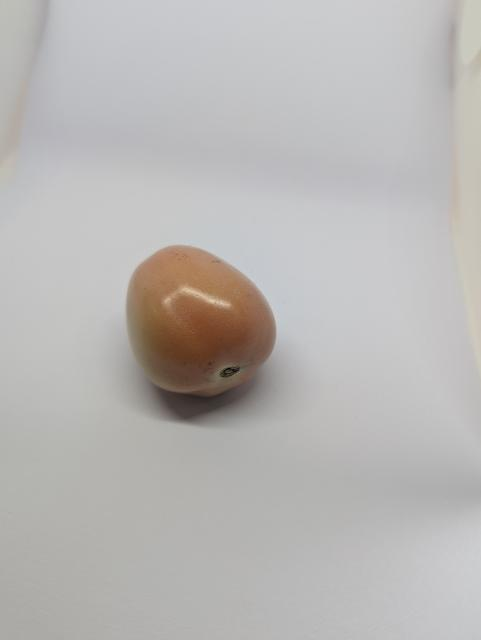turning: (120, 233, 283, 409)
